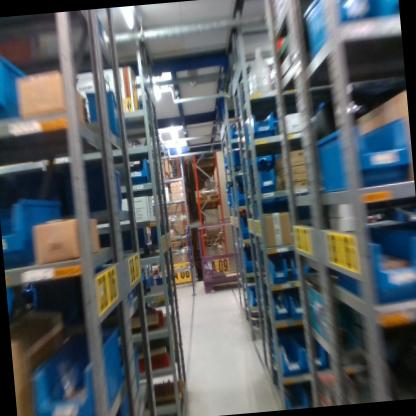pallet: (195, 194, 220, 202)
stillage: (195, 214, 255, 294)
